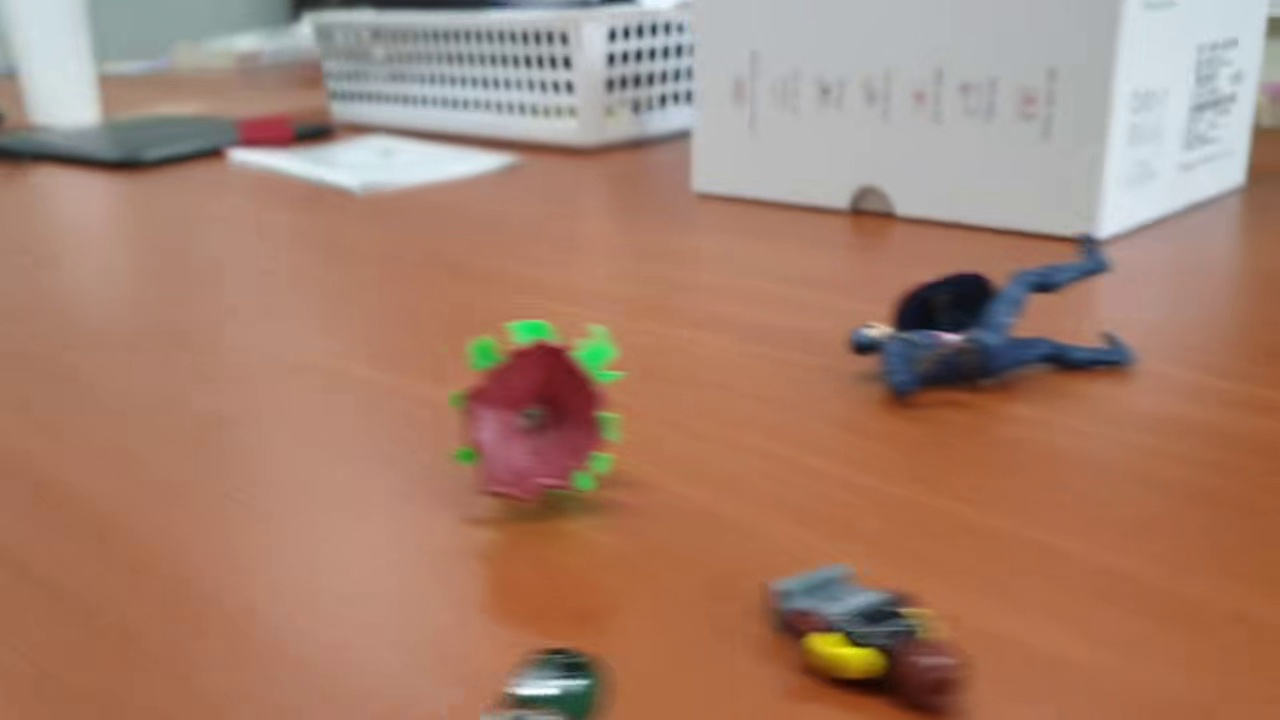people: (847, 232, 1138, 413), (756, 559, 975, 706), (471, 644, 612, 720)
tree: (448, 319, 631, 506)
